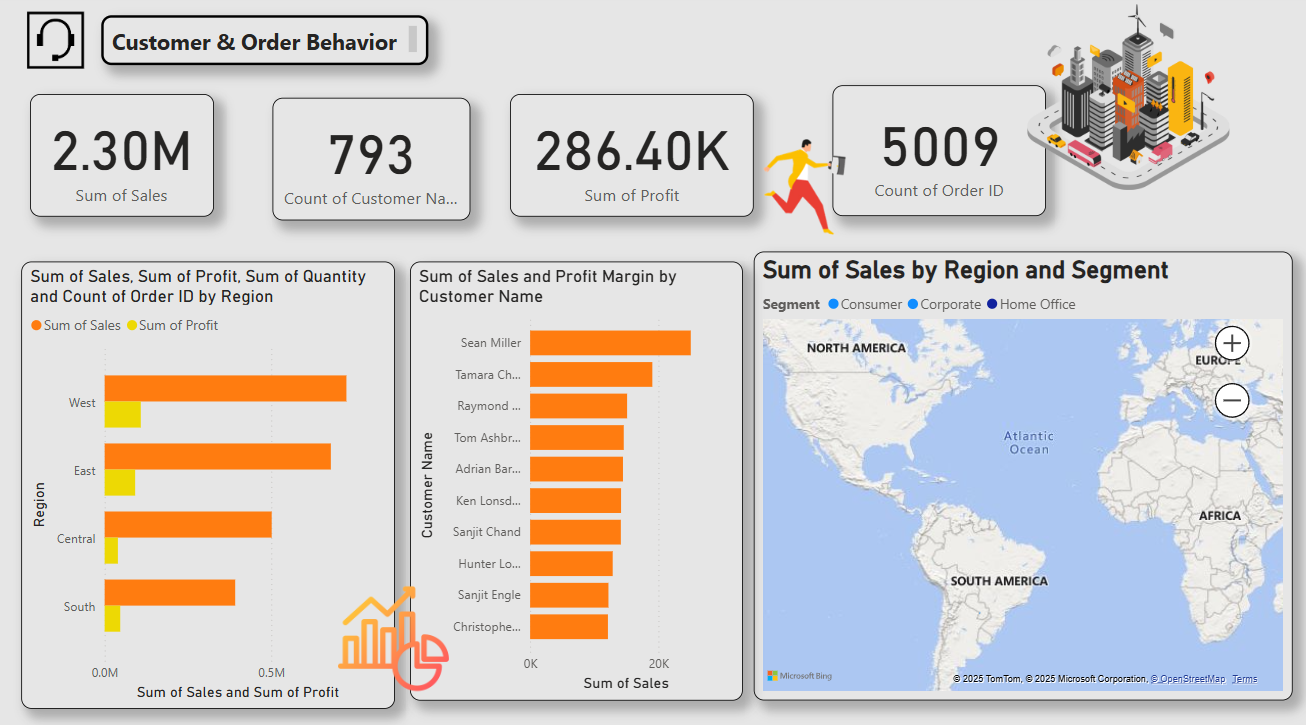

What the dashboard file says about the page in this screenshot:
{"tool":"powerbi","page":{"name":"Customer & Order Behavior ","canvas":[1280,720],"ordinal":3},"visuals":[{"type":"card","fields":{"Values":["Sample - Superstore.Sales"]},"box":[29.3,97.8,179.8,119.8],"z":0},{"type":"card","fields":{"Values":["Sample - Superstore.Customer Name"]},"box":[266.6,101.5,193.2,119.8],"z":1000},{"type":"card","fields":{"Values":["Sample - Superstore.Profit"]},"box":[498.9,97.8,238.5,119.8],"z":2000},{"type":"card","fields":{"Values":["Sample - Superstore.Order ID"]},"box":[814.4,89.3,209.1,128.4],"z":3000},{"type":"filledMap","fields":{"Category":["Sample - Superstore.Region"],"Series":["Sample - Superstore.Segment"]},"box":[737.4,251.9,527,439],"z":4000},{"type":"clusteredBarChart","fields":{"Category":["Sample - Superstore.Region"],"Y":["Sample - Superstore.Sales","Sample - Superstore.Profit"]},"box":[20.8,261.7,365.6,437.8],"z":5000},{"type":"image","box":[20.8,12.2,67.3,66],"z":6000},{"type":"textbox","box":[99,20.8,320.4,48.9],"z":7000},{"type":"image","box":[1000.3,4.1,207.2,194.9],"z":8000},{"type":"image","box":[737.4,89.3,97.8,193.2],"z":9000},{"type":"barChart","fields":{"Category":["Sample - Superstore.Customer Name"],"Y":["Sample - Superstore.Sales"]},"box":[400.7,262.1,325.2,429.5],"z":10000},{"type":"image","box":[323.8,569.5,122.1,122.1],"z":11000}]}

Visuals, with their boxes in screenshot pixels (x1, y1, x2, y2), scaled from the page's 1280x720 canvas onto the 1306x725 screenshot:
card - Sample - Superstore.Sales: [left=30, top=98, right=213, bottom=219]
card - Sample - Superstore.Customer Name: [left=272, top=102, right=469, bottom=223]
card - Sample - Superstore.Profit: [left=509, top=98, right=752, bottom=219]
card - Sample - Superstore.Order ID: [left=831, top=90, right=1044, bottom=219]
filledMap - Sample - Superstore.Region x Sample - Superstore.Segment: [left=752, top=254, right=1290, bottom=696]
clusteredBarChart - Sample - Superstore.Region x Sample - Superstore.Sales: [left=21, top=264, right=394, bottom=704]
image: [left=21, top=12, right=90, bottom=79]
textbox: [left=101, top=21, right=428, bottom=70]
image: [left=1021, top=4, right=1232, bottom=200]
image: [left=752, top=90, right=852, bottom=284]
barChart - Sample - Superstore.Customer Name x Sample - Superstore.Sales: [left=409, top=264, right=741, bottom=696]
image: [left=330, top=573, right=455, bottom=696]
